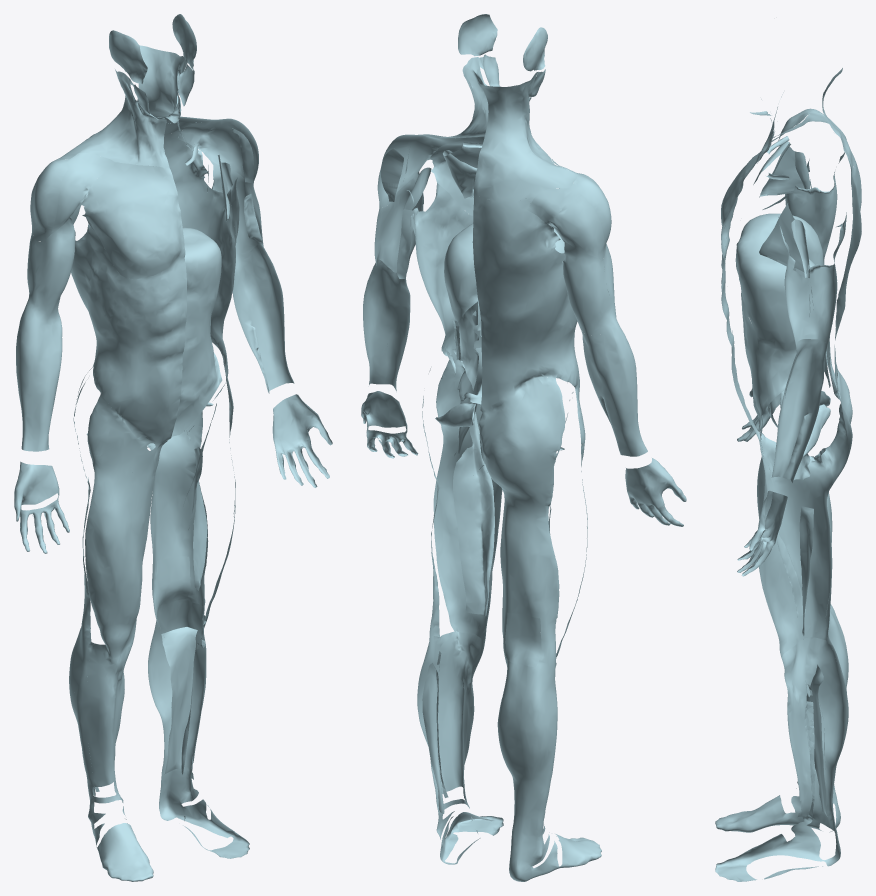
Rendered from fascia.glb.
The picture shows the model from 3 angles, left to right: view 1: azimuth 30°, elevation 25°; view 2: azimuth 150°, elevation 25°; view 3: azimuth 270°, elevation 25°; orthographic projection. The views are drawn at different scales.
Parts seen in each view (by area): view 1: Investing abdominal fascia.r.001, Fascia lata.r.001, Crural fascia.r.001, Pectoral fascia.r.001, Crural fascia.l.001, Fascia lata.l.001, Investing abdominal fascia.l.001, Antebrachial fascia.r.001, Antebrachial fascia.l.001, Transversalis fascia.001, Superficial investing cervical fascia.r.001, Deltoid fascia.r.001 (+12 smaller); view 2: Investing abdominal fascia.r.001, Fascia lata.r.001, Crural fascia.r.001, Crural fascia.l.001, Fascia lata.l.001, Superficial investing cervical fascia.r.001, Medial femoral intermuscular septum.l.001, Antebrachial fascia.r.001, Antebrachial fascia.l.001, Investing abdominal fascia.l.001, Deltoid fascia.r.001, Brachial fascia.r.001 (+16 smaller); view 3: Fascia lata.l.001, Crural fascia.l.001, Diaphragmatic fascia.001, Antebrachial fascia.l.001, Brachial fascia.l.001, Transversalis fascia.001, Crural fascia.r.001, Clavipectoral fascia.l.001, Investing abdominal fascia.l.001, Brachial fascia.r.001, Clavipectoral fascia.r.001, Dorsal fascia of hand.l.001 (+13 smaller).
Boxes of the visible parts, x1,y1,x2,y2 form: Investing abdominal fascia.r.001: (71,223,186,444); Fascia lata.r.001: (73,367,167,648); Crural fascia.r.001: (69,627,153,881); Pectoral fascia.r.001: (79,162,184,279); Crural fascia.l.001: (148,599,249,858); Fascia lata.l.001: (147,363,235,621); Investing abdominal fascia.l.001: (148,126,235,431); Antebrachial fascia.r.001: (16,300,62,451); Antebrachial fascia.l.001: (232,244,294,393); Transversalis fascia.001: (171,260,222,436); Superficial investing cervical fascia.r.001: (57,69,170,167); Deltoid fascia.r.001: (30,152,114,241); Investing abdominal fascia.r.001: (472,193,579,414); Fascia lata.r.001: (479,377,587,667); Crural fascia.r.001: (497,655,601,881); Crural fascia.l.001: (417,630,503,864); Fascia lata.l.001: (422,358,502,639); Superficial investing cervical fascia.r.001: (474,72,576,203); Medial femoral intermuscular septum.l.001: (453,412,494,615); Antebrachial fascia.r.001: (581,317,647,456); Antebrachial fascia.l.001: (363,259,410,391); Investing abdominal fascia.l.001: (407,183,480,376); Deltoid fascia.r.001: (527,159,611,260); Brachial fascia.r.001: (561,238,616,335); Fascia lata.l.001: (758,390,852,658); Crural fascia.l.001: (715,637,848,881); Diaphragmatic fascia.001: (737,213,823,350); Antebrachial fascia.l.001: (771,339,827,482); Brachial fascia.l.001: (784,237,839,345); Transversalis fascia.001: (735,243,796,435); Crural fascia.r.001: (715,610,848,832); Clavipectoral fascia.l.001: (759,173,810,277); Investing abdominal fascia.l.001: (721,175,861,439); Brachial fascia.r.001: (785,161,839,250); Clavipectoral fascia.r.001: (753,136,810,197); Dorsal fascia of hand.l.001: (737,492,787,576).
Size of the model in its own units: 0.6708 by 1.66 by 0.2685.
